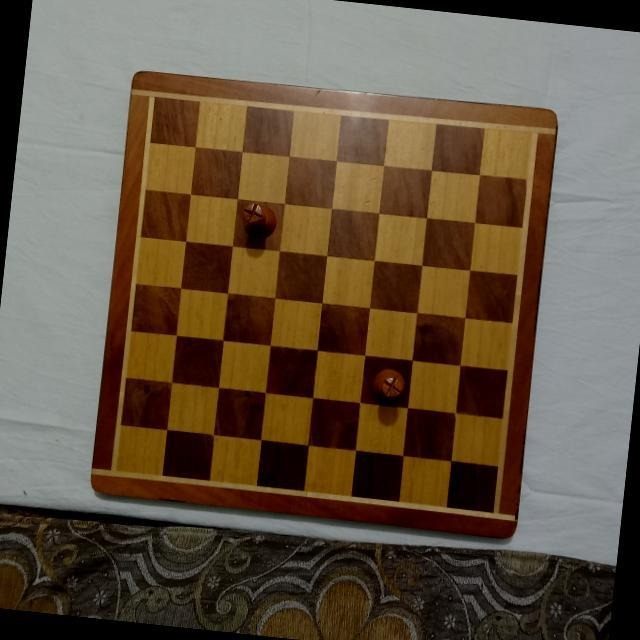white-rook: (238, 198, 278, 242), (370, 365, 408, 403)
